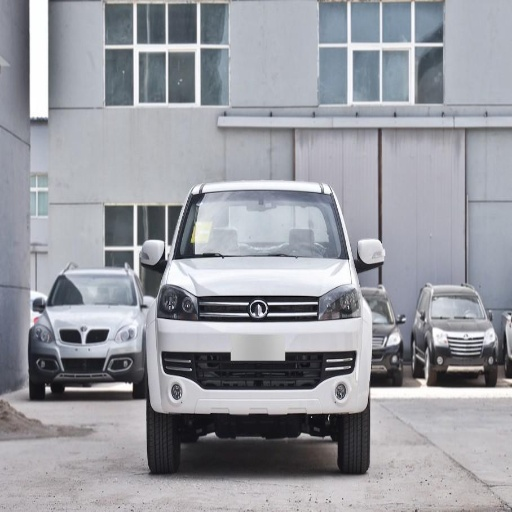front_bumper: (154, 296, 368, 411), (55, 316, 97, 357)
hood: (172, 258, 352, 297)
